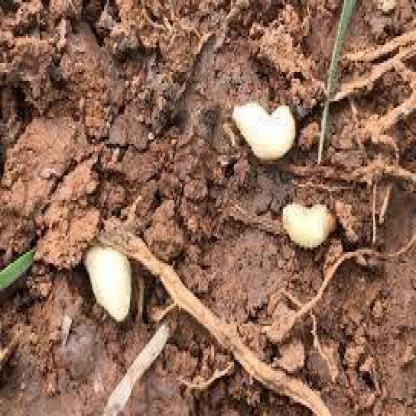root grubs: (232, 103, 297, 159), (285, 198, 336, 250)
